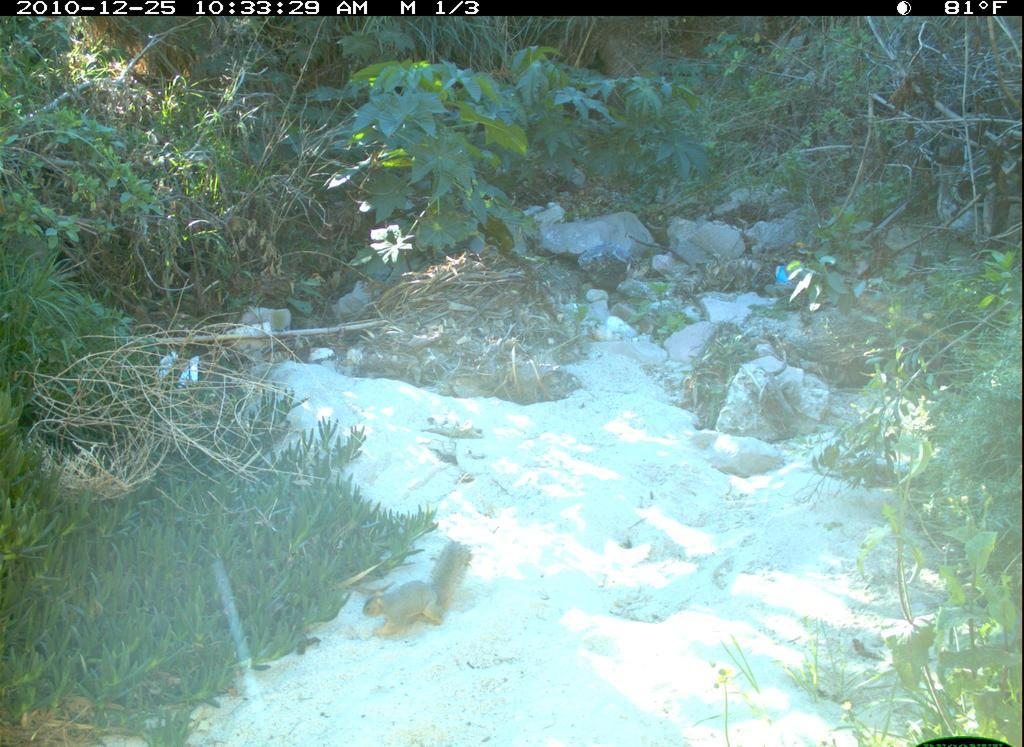squirrel: (349, 539, 497, 644)
